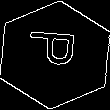P_E: (25, 34, 85, 76)
